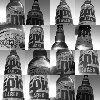beer: (49, 24, 74, 49)
